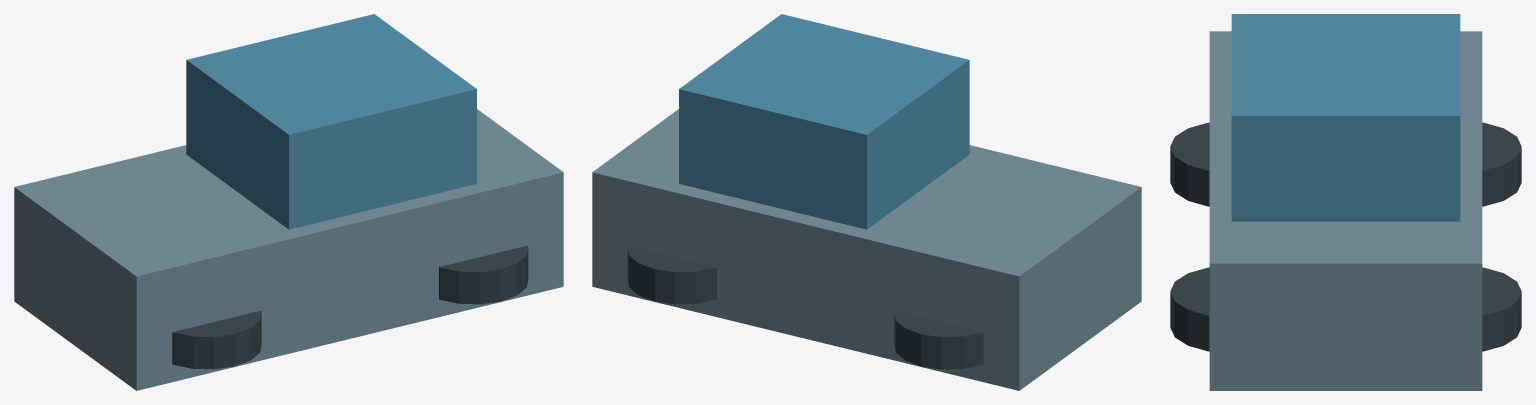
File: utility_truck.glb
3 renders of one model, left to right at view 1: azimuth 30°, elevation 25°; view 2: azimuth 150°, elevation 25°; view 3: azimuth 270°, elevation 25°, orthographic. The views are drawn at different scales.
Visible parts, largest first — view 1: utility_truck, utility_truck cabin, Cylinder, Cylinder.002; view 2: utility_truck, utility_truck cabin, Cylinder.001, Cylinder.003; view 3: utility_truck, utility_truck cabin, Cylinder, Cylinder.001, Cylinder.002, Cylinder.003.
Part boxes in pixels (x1,y1,x2,y2): utility_truck: (14, 109, 563, 390); utility_truck cabin: (186, 14, 476, 229); Cylinder: (172, 310, 261, 369); Cylinder.002: (439, 245, 528, 304); utility_truck: (592, 109, 1141, 390); utility_truck cabin: (679, 14, 969, 229); Cylinder.001: (894, 310, 983, 369); Cylinder.003: (627, 245, 716, 304); utility_truck: (1209, 31, 1482, 390); utility_truck cabin: (1231, 14, 1460, 221); Cylinder: (1170, 122, 1209, 206); Cylinder.001: (1482, 122, 1521, 206); Cylinder.002: (1170, 267, 1209, 351); Cylinder.003: (1482, 267, 1521, 351).
Size of the model in its own units: 2.5 by 1.17 by 1.6.
